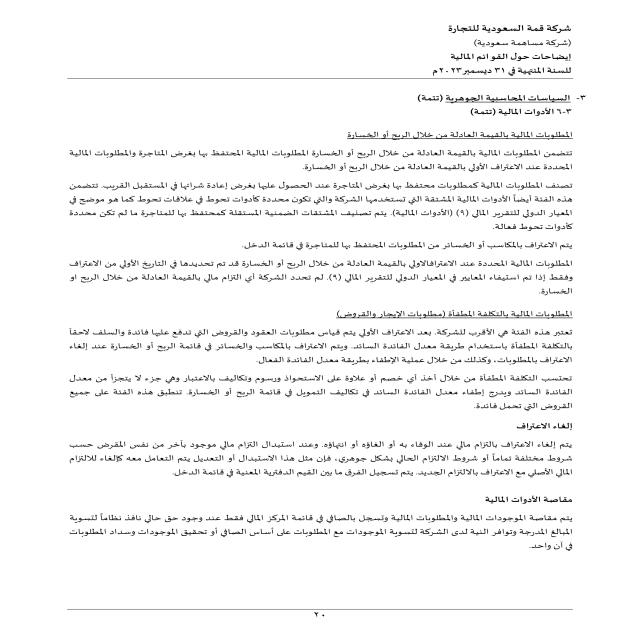notes: (438, 49, 579, 64)
text: (38, 91, 594, 582)
